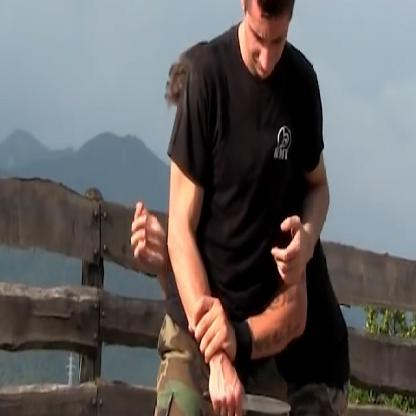knife: (196, 372, 297, 415)
